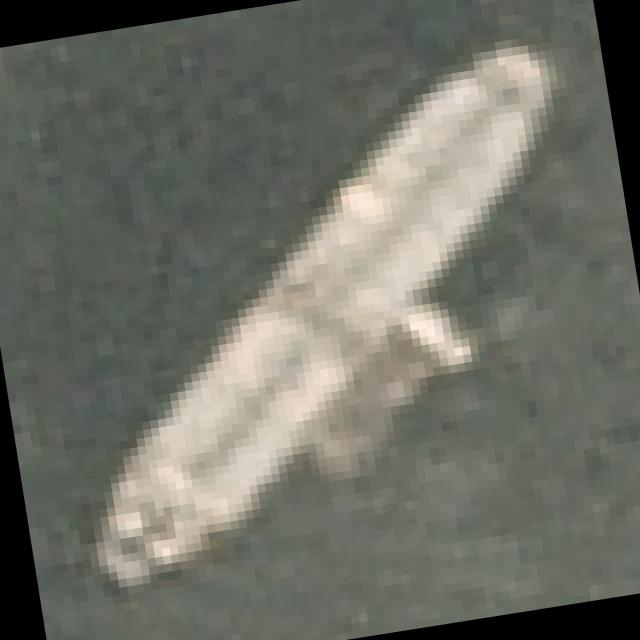ship: (0, 10, 638, 608)
